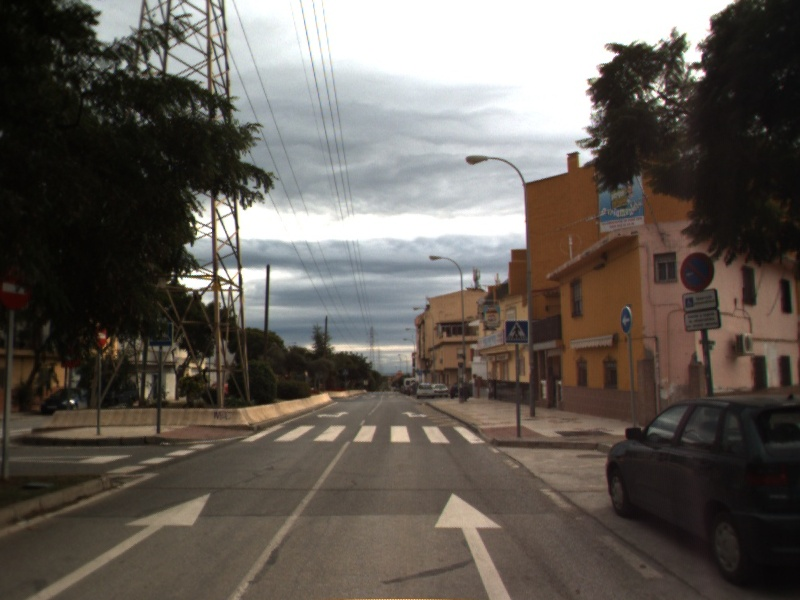STRAIGHT: (20, 490, 213, 600), (432, 490, 516, 600)
STRAIGHT_LEFT: (315, 409, 352, 420)
STRAIGHT_RIGHT: (399, 409, 430, 420)
